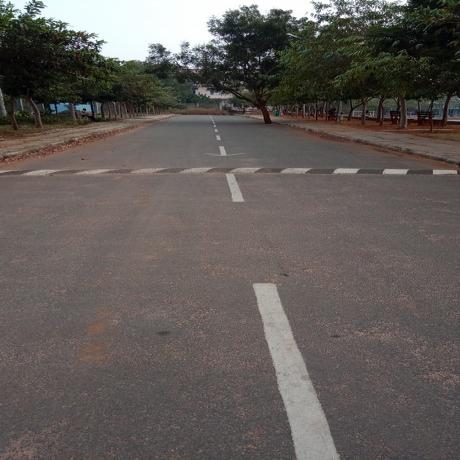Speed Bump: (4, 166, 458, 176)
